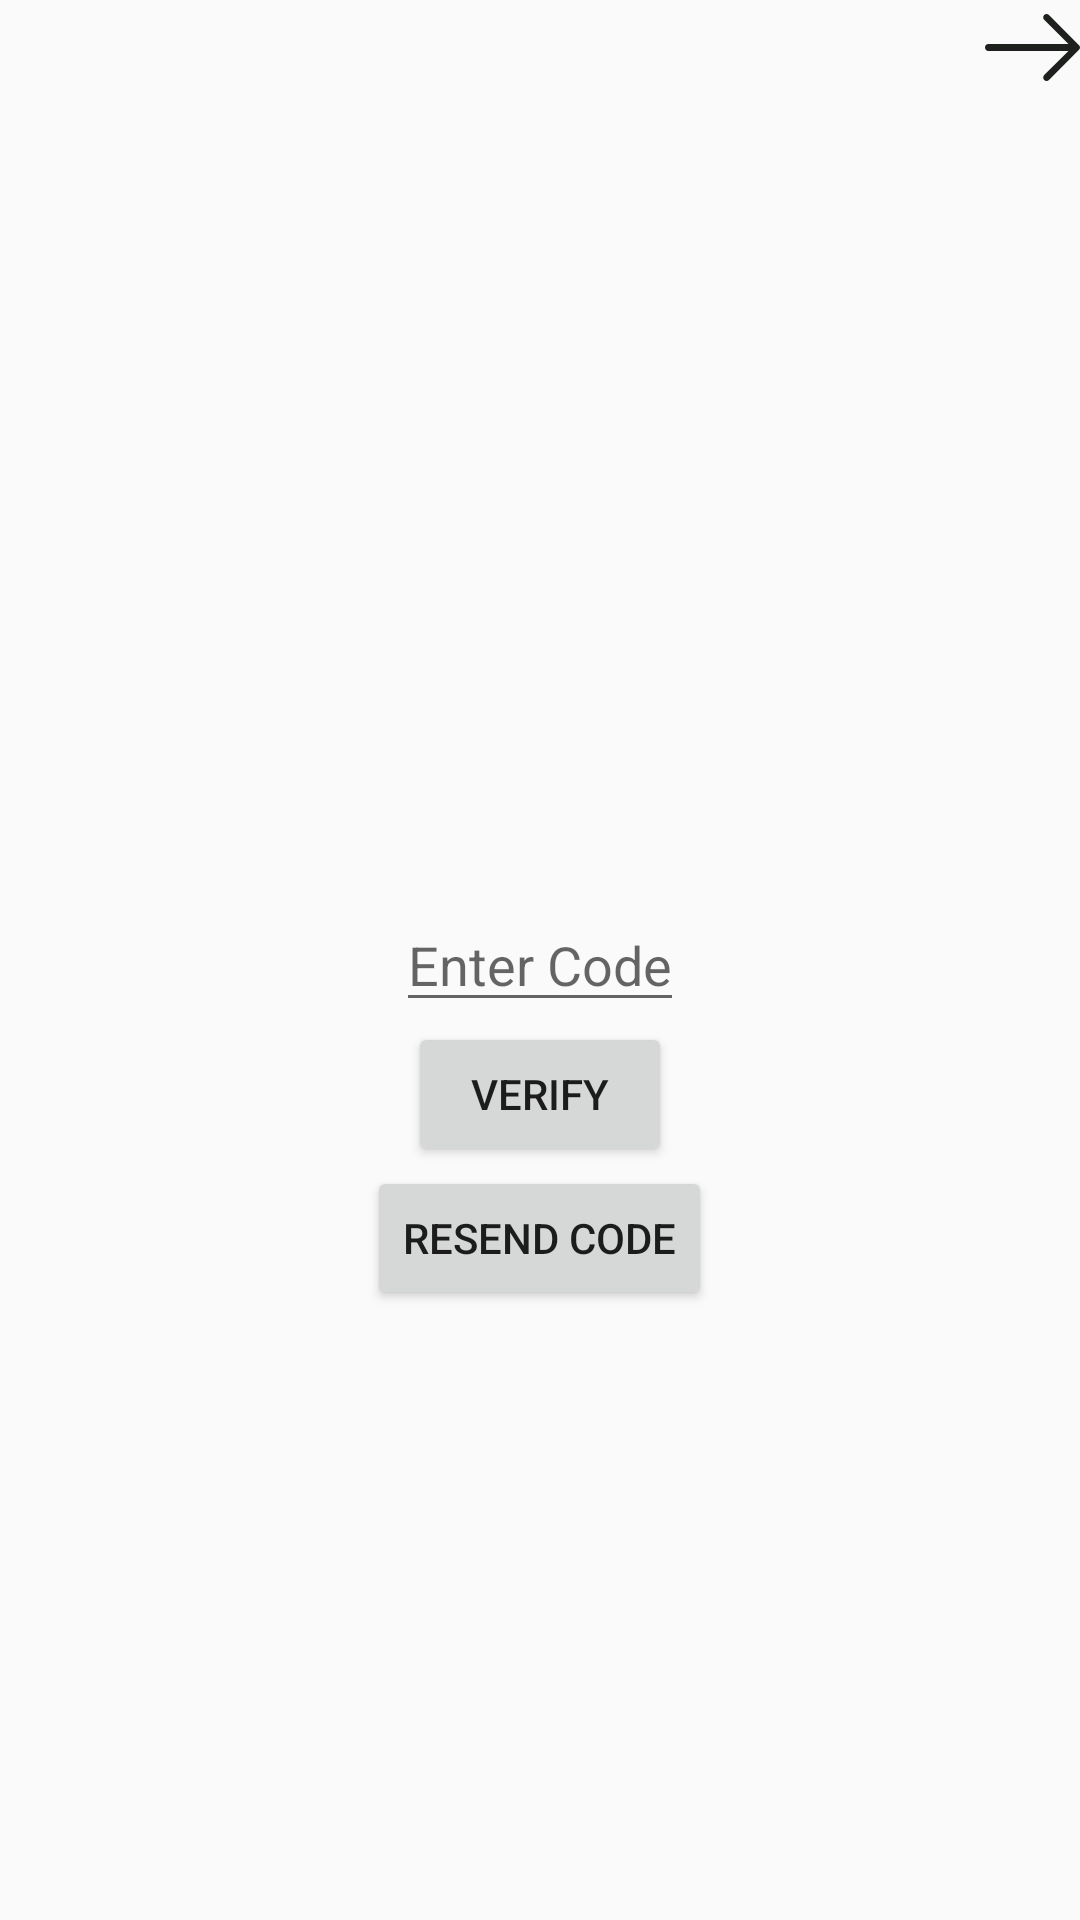

Icons on this 1080px x 1920px Android screen, each with the point to tap as [x,y]:
right arrow: [1032,47]
